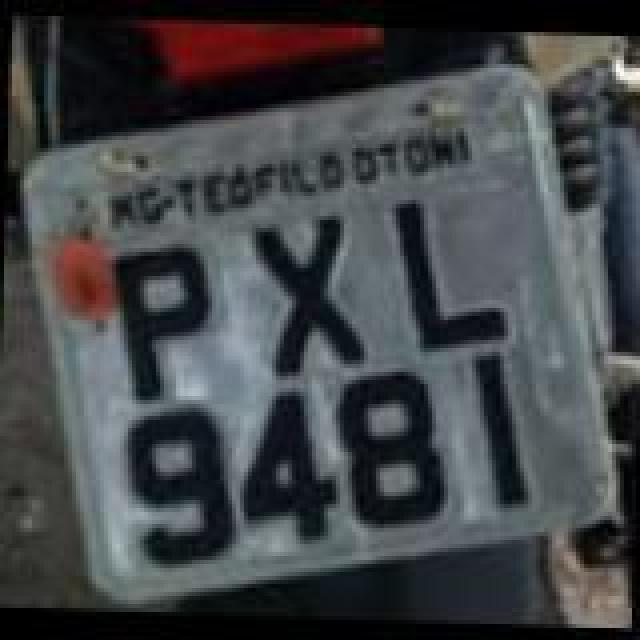1: (468, 350, 540, 514)
4: (234, 380, 334, 548)
8: (330, 362, 454, 534)
9: (116, 400, 244, 576)
L: (388, 186, 516, 358)
P: (106, 236, 214, 404)
X: (242, 208, 374, 384)
